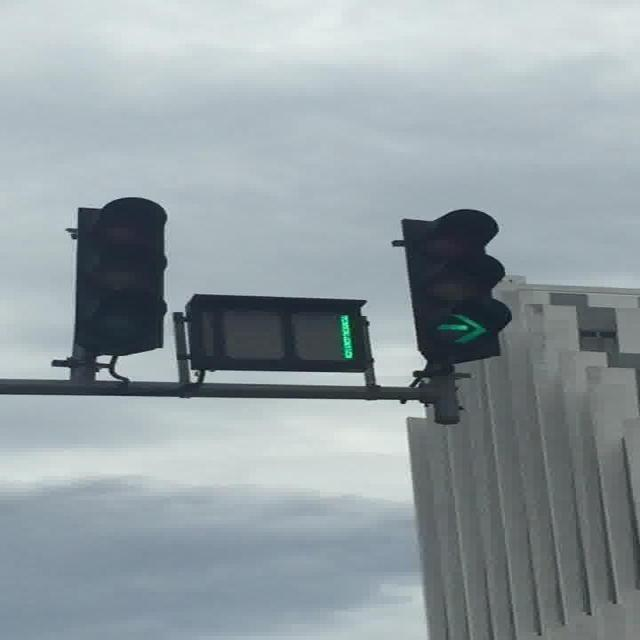green_light: (407, 208, 511, 365)
